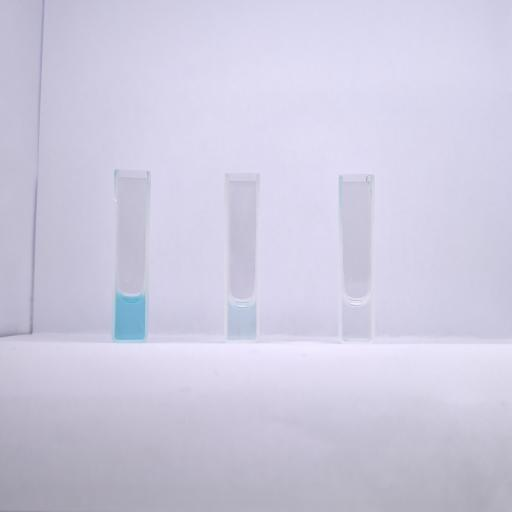cuvette: (110, 167, 152, 344), (336, 172, 378, 345), (222, 172, 262, 343)
liquid: (116, 292, 145, 339), (342, 297, 370, 340), (228, 297, 256, 339)
